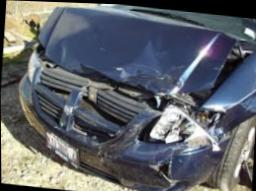Bonnet: (52, 7, 225, 108)
Bumper: (20, 81, 208, 191)
Light: (151, 102, 212, 148)
